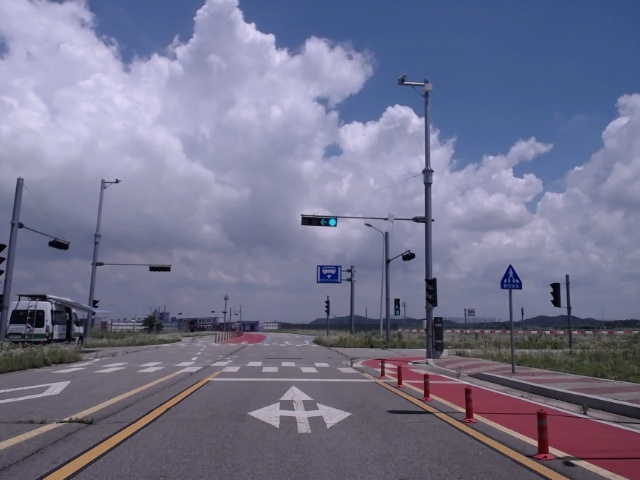all_green_4: (298, 214, 339, 228)
